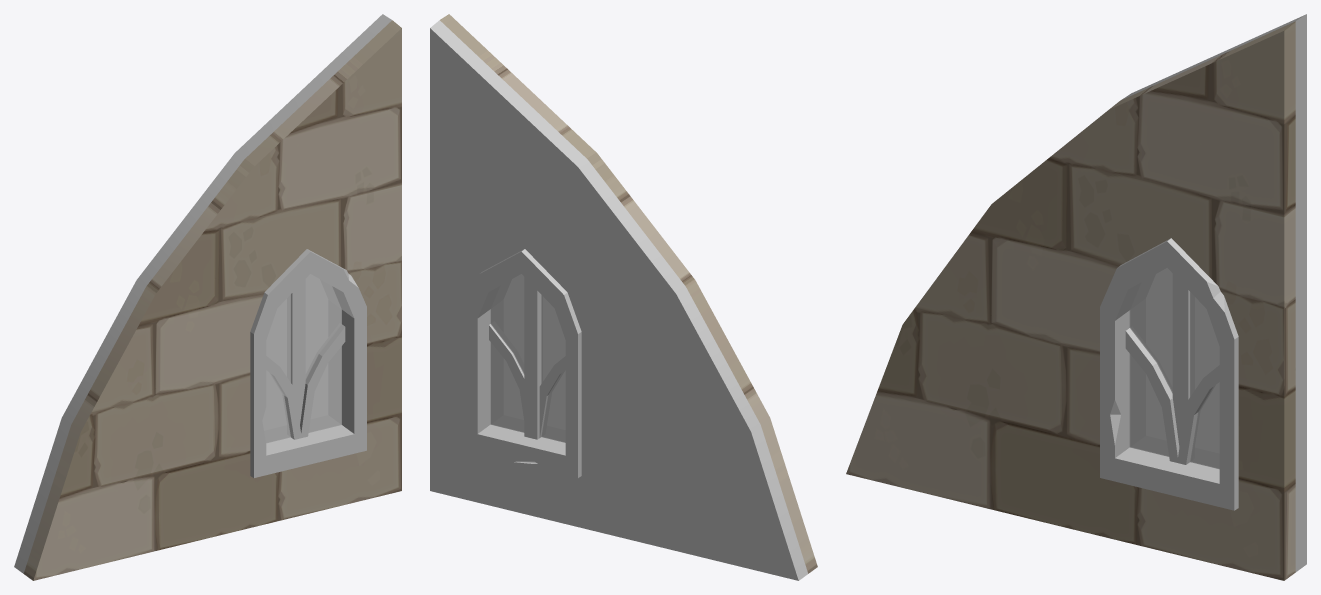
Rendered from SM_Bld_Wall_End_Concave_Small_Window_01.fbx.
3 renders of one model, left to right at view 1: azimuth 30°, elevation 25°; view 2: azimuth 150°, elevation 25°; view 3: azimuth 330°, elevation 25°, orthographic. The views are drawn at different scales.
Parts seen in each view (by area): view 1: SM_Bld_Wall_End_Concave_Small_Window_01, SM_Bld_Wall_End_Concave_Small_Window_01_Glass; view 2: SM_Bld_Wall_End_Concave_Small_Window_01, SM_Bld_Wall_End_Concave_Small_Window_01_Glass; view 3: SM_Bld_Wall_End_Concave_Small_Window_01, SM_Bld_Wall_End_Concave_Small_Window_01_Glass.
Boxes of the visible parts, x1,y1,x2,y2 form: SM_Bld_Wall_End_Concave_Small_Window_01: (14, 14, 401, 580); SM_Bld_Wall_End_Concave_Small_Window_01_Glass: (262, 274, 341, 443); SM_Bld_Wall_End_Concave_Small_Window_01: (430, 14, 817, 580); SM_Bld_Wall_End_Concave_Small_Window_01_Glass: (490, 274, 565, 442); SM_Bld_Wall_End_Concave_Small_Window_01: (846, 14, 1306, 580); SM_Bld_Wall_End_Concave_Small_Window_01_Glass: (1129, 268, 1219, 469).
Size of the model in its own units: 250 by 301 by 30.61.
